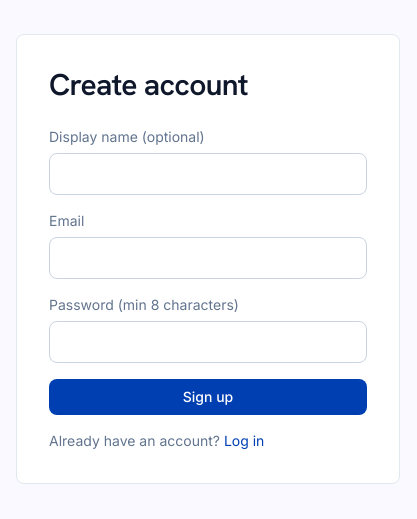
Scenario: RegisterPage › surfaces the backend's message and keeps the form
This screenshot has width=417, height=519.
Type "new@example.com" into the field labelled "Email" at (208, 258), box x1=49 y1=236 x2=367 y2=278
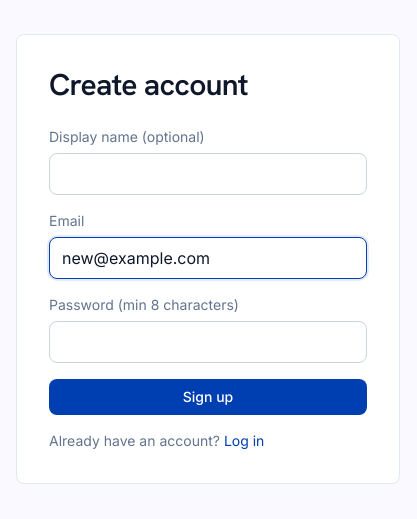
Type "password123" into the password field labelled "Password (min 8 characters)" at (208, 342), box x1=49 y1=320 x2=367 y2=362
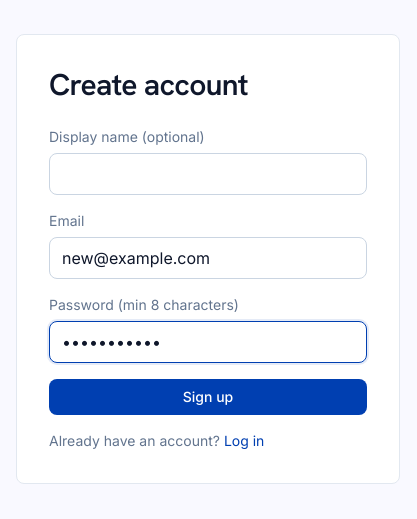
Click the button "Sign up" at (208, 396), box x1=49 y1=378 x2=367 y2=414
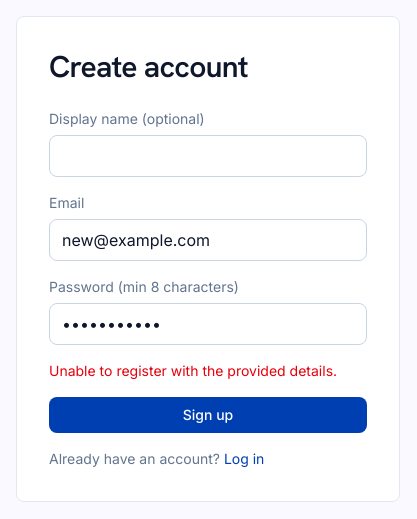
Expected: the button "Sign up" is shown, x1=49 y1=396 x2=367 y2=432
Expected: the text "Unable to register with the provided details." is shown, x1=49 y1=360 x2=367 y2=380
